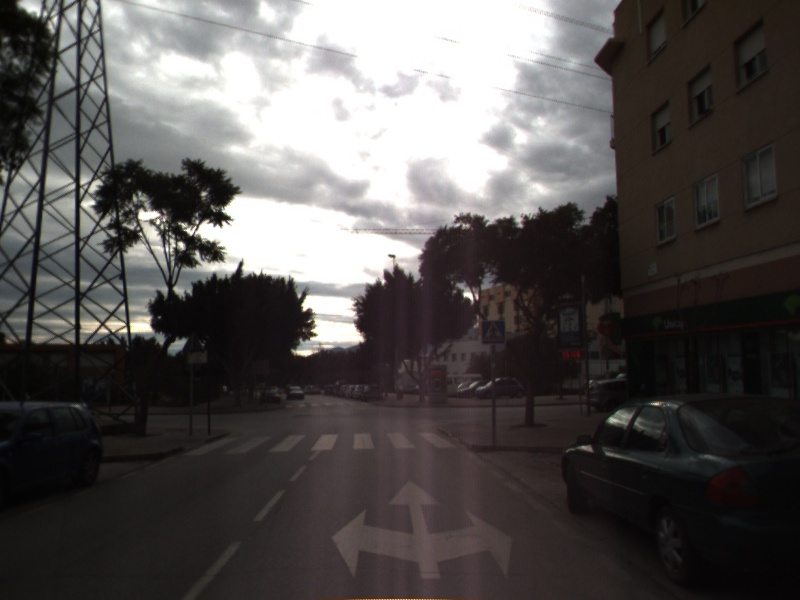STRAIGHT_LEFT_RIGHT: (329, 477, 515, 582)
